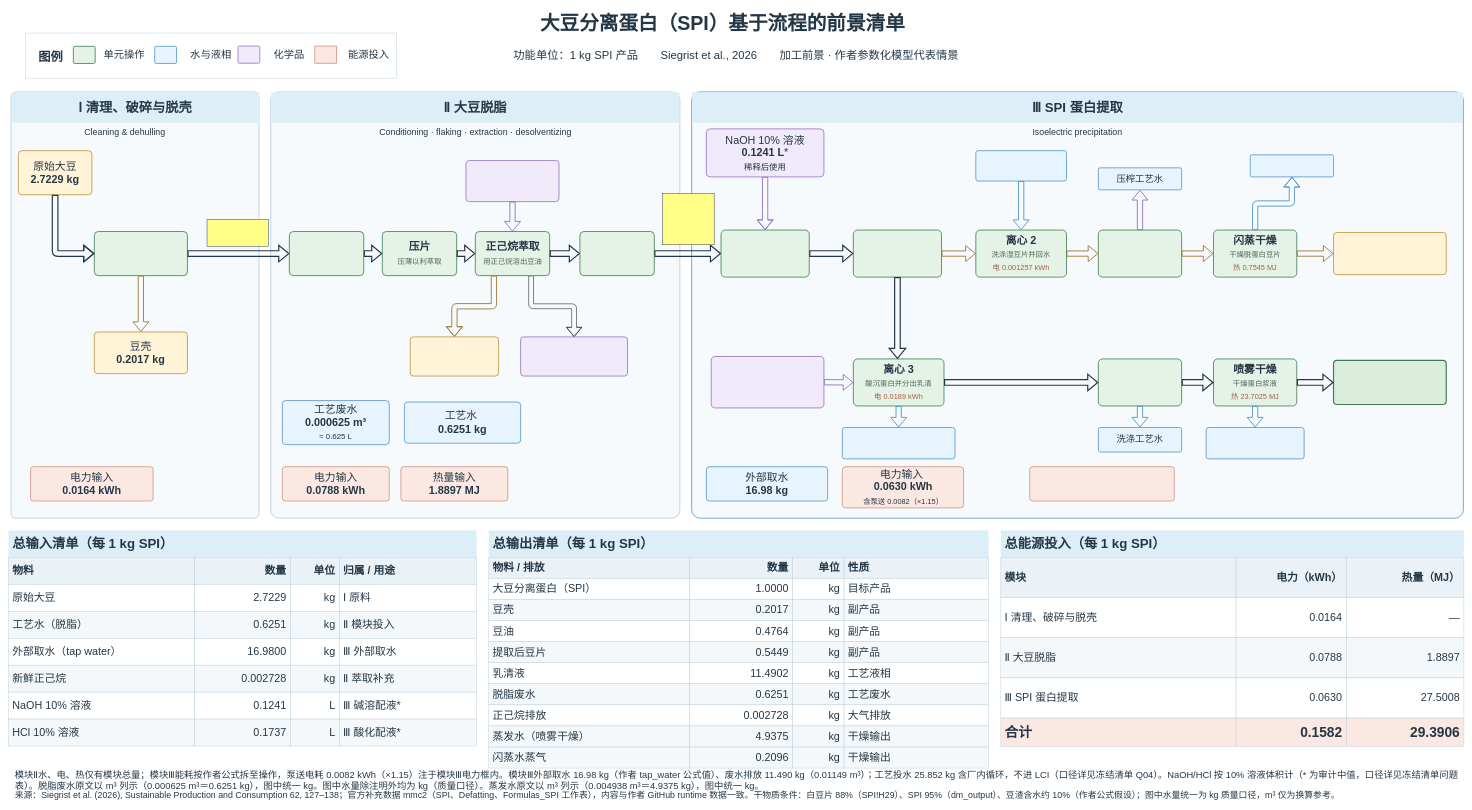
Image size: 1472x810. Some labels were removed from this diagram. Each missing label, with the centre of its shape:
"HCl 10% 溶液 0.1737 L * 稀释后使用" goes at [767,382].
"乳清水相 11.4902 kg *" goes at [898,443].
"压榨 压出湿豆片中的水 电 0.000777 kWh" goes at [1140,253].
"去壳大豆 2.5212 kg" goes at [237,232].
"大豆分离蛋白 SPI 1.0000 kg 干物质 95%" goes at [1390,382].
"提取后豆片 0.5449 kg 含水约 10%" goes at [1389,253].
"新鲜正己烷 0.002728 kg" goes at [512,181].
"正己烷排放 0.002728 kg" goes at [574,356].
"水蒸气 0.2096 kg" goes at [1292,165].
"浸泡 / 碱溶 碱溶大豆蛋白 热 3.0438 MJ" goes at [764,253].
"清理、破碎 与脱壳 除杂、去除豆壳" goes at [141,253].
"热量输入 27.5008 MJ" goes at [1101,483].
"白豆片 1.9852 kg 干物质 88%" goes at [688,219].
"离心 1 分出蛋白提取液 电 0.0201 kWh" goes at [897,253].
"离心 4 洗涤蛋白沉淀 电 0.0138 kWh" goes at [1140,382].
"脱溶 去除残留溶剂" goes at [616,253].
"蒸发水 4.9375 kg" goes at [1254,443].
"调质 调节豆粒状态" goes at [326,253].
"豆油 0.4764 kg" goes at [454,356].
"豆片洗涤水" goes at [1021,165].
